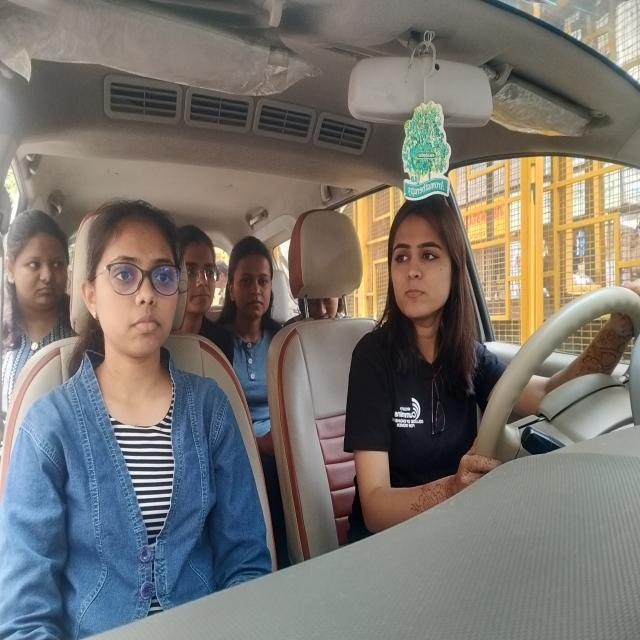LeftRight: (385, 187, 472, 349)
person: (81, 188, 189, 382), (6, 198, 72, 337), (230, 231, 281, 342), (190, 209, 220, 327)
